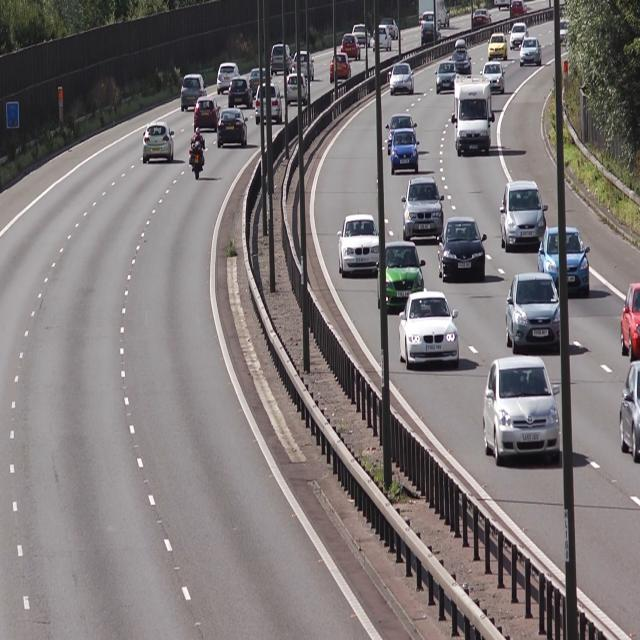Car: (483, 355, 567, 462), (398, 292, 463, 371), (508, 268, 566, 356), (537, 224, 594, 296), (377, 242, 428, 317), (498, 180, 549, 254), (453, 75, 497, 157), (438, 216, 489, 284), (403, 172, 446, 249), (337, 212, 385, 278), (142, 120, 177, 166), (391, 128, 420, 176), (216, 108, 248, 151), (254, 84, 283, 124), (226, 73, 255, 111), (180, 74, 208, 113), (389, 61, 417, 99), (194, 94, 221, 133), (482, 58, 506, 96), (433, 61, 460, 94), (519, 35, 545, 69), (218, 61, 240, 96), (484, 30, 508, 62)
